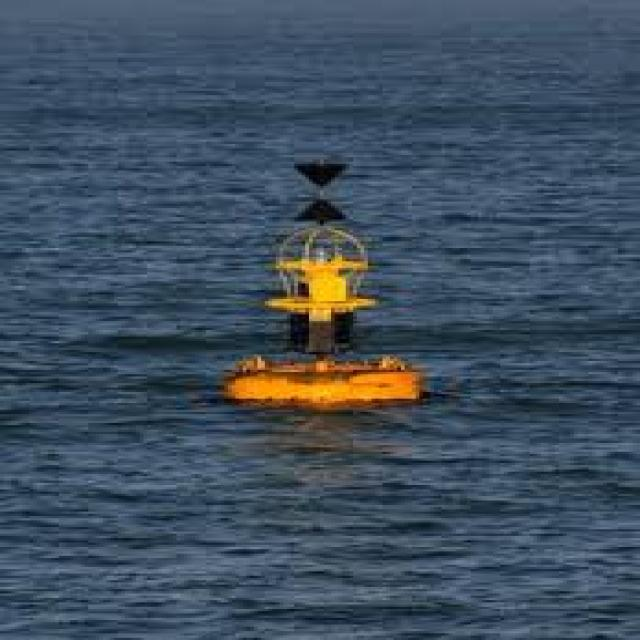2.2 cardinal mark -W-: (196, 127, 448, 425)
